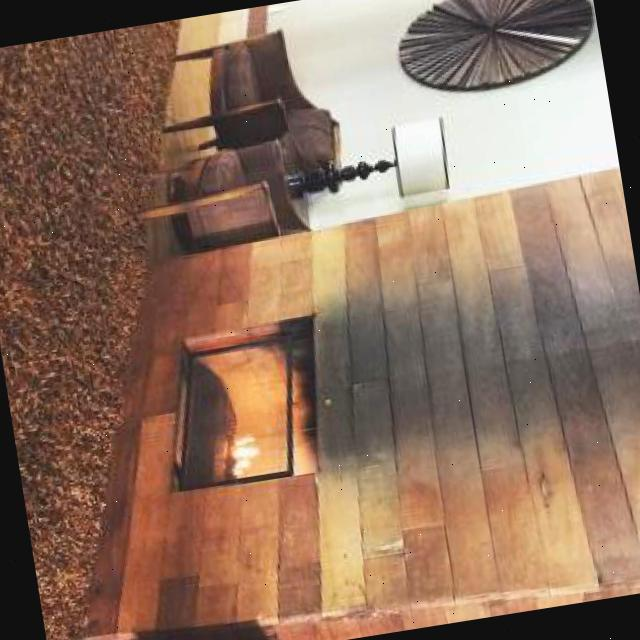fire: (224, 436, 277, 480)
